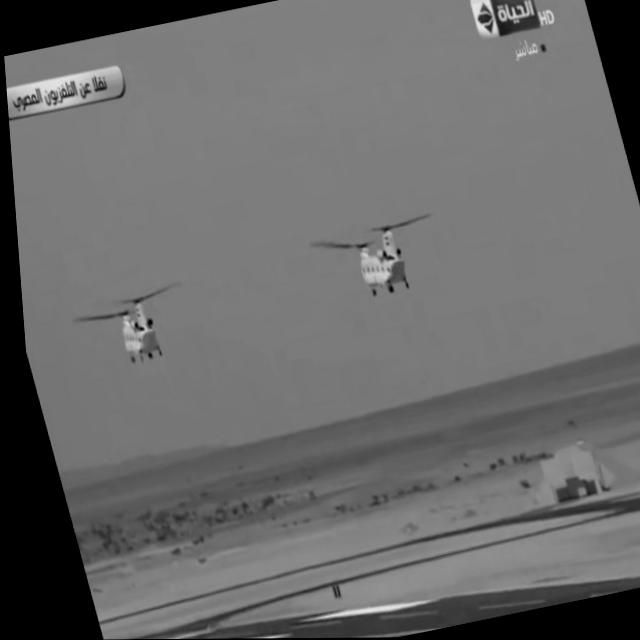helikopter: (294, 192, 454, 324), (55, 266, 209, 402)
